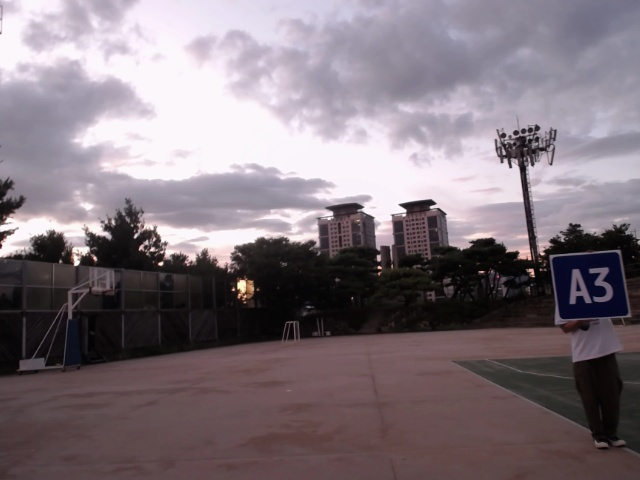delivery_a3: (549, 250, 631, 322)
